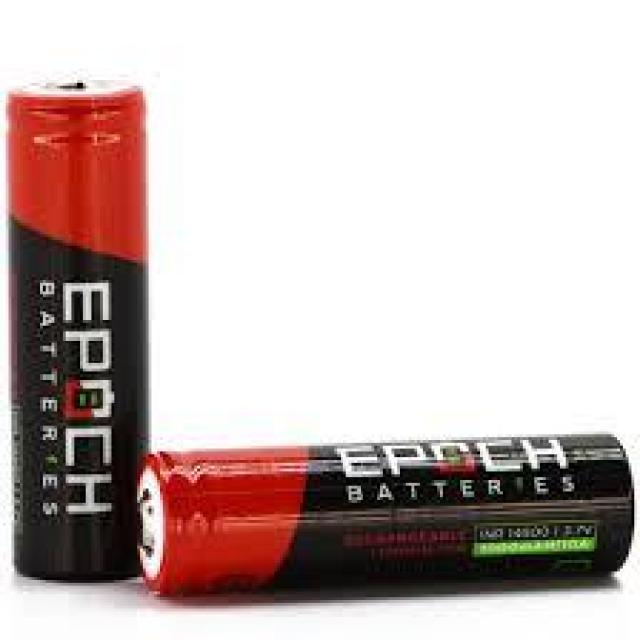AA: (135, 429, 634, 597), (3, 74, 148, 580)
